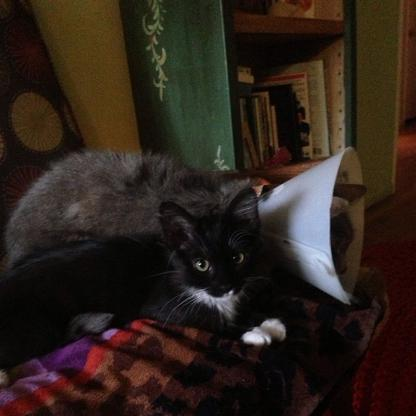Cat: (0, 150, 371, 279), (0, 183, 288, 346)
